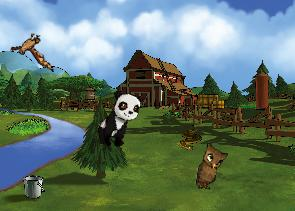eagle: (7, 29, 59, 72)
owl: (195, 142, 229, 192)
panda: (93, 86, 145, 153)
